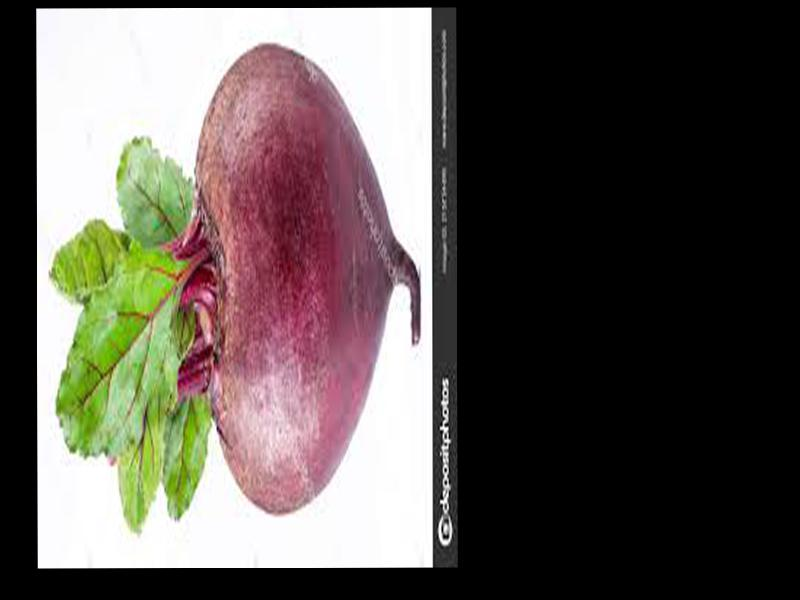Beet: (49, 42, 418, 532)
